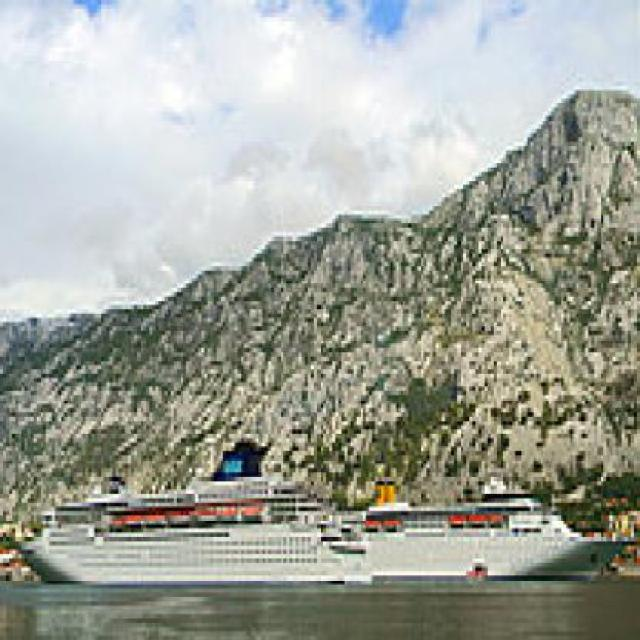cruise: (23, 457, 380, 608), (358, 478, 638, 598)
